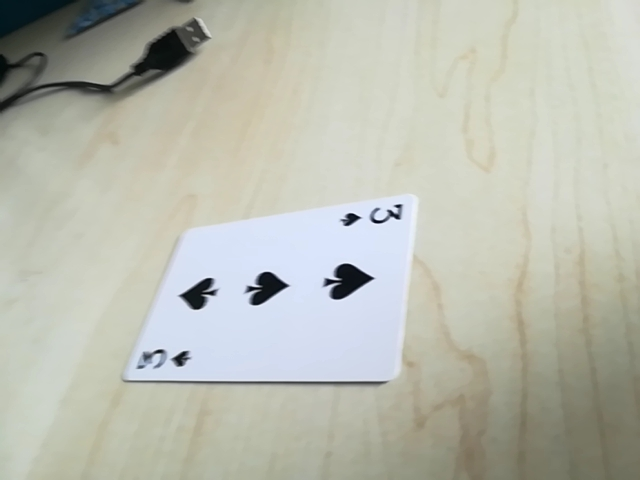ht 3: (337, 198, 407, 231), (132, 343, 197, 378)
